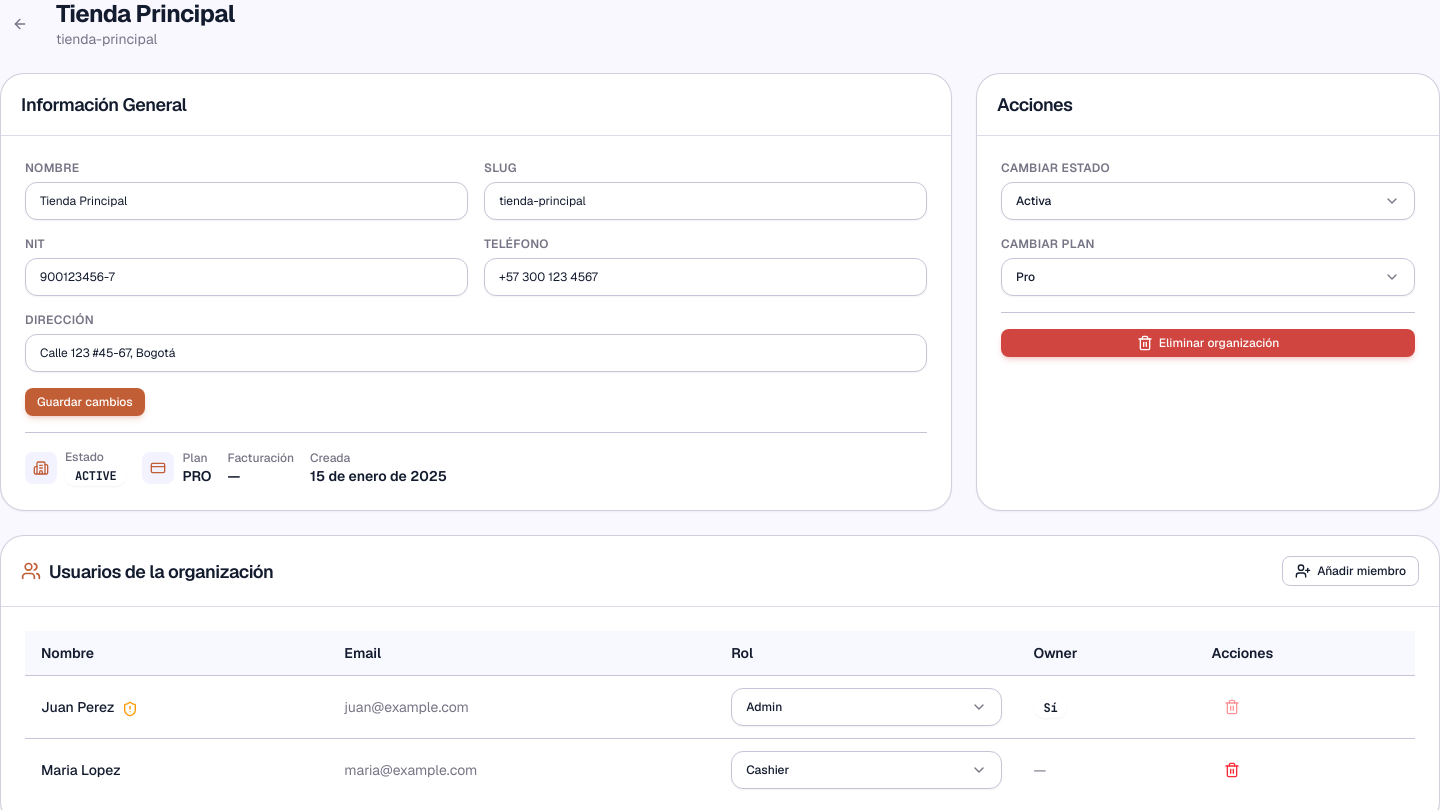
OrganizationDetailPage › add member modal › opens add member modal when button is clicked
Click the button "Añadir miembro".
click(1351, 571)  # box [1282, 556, 1419, 586]
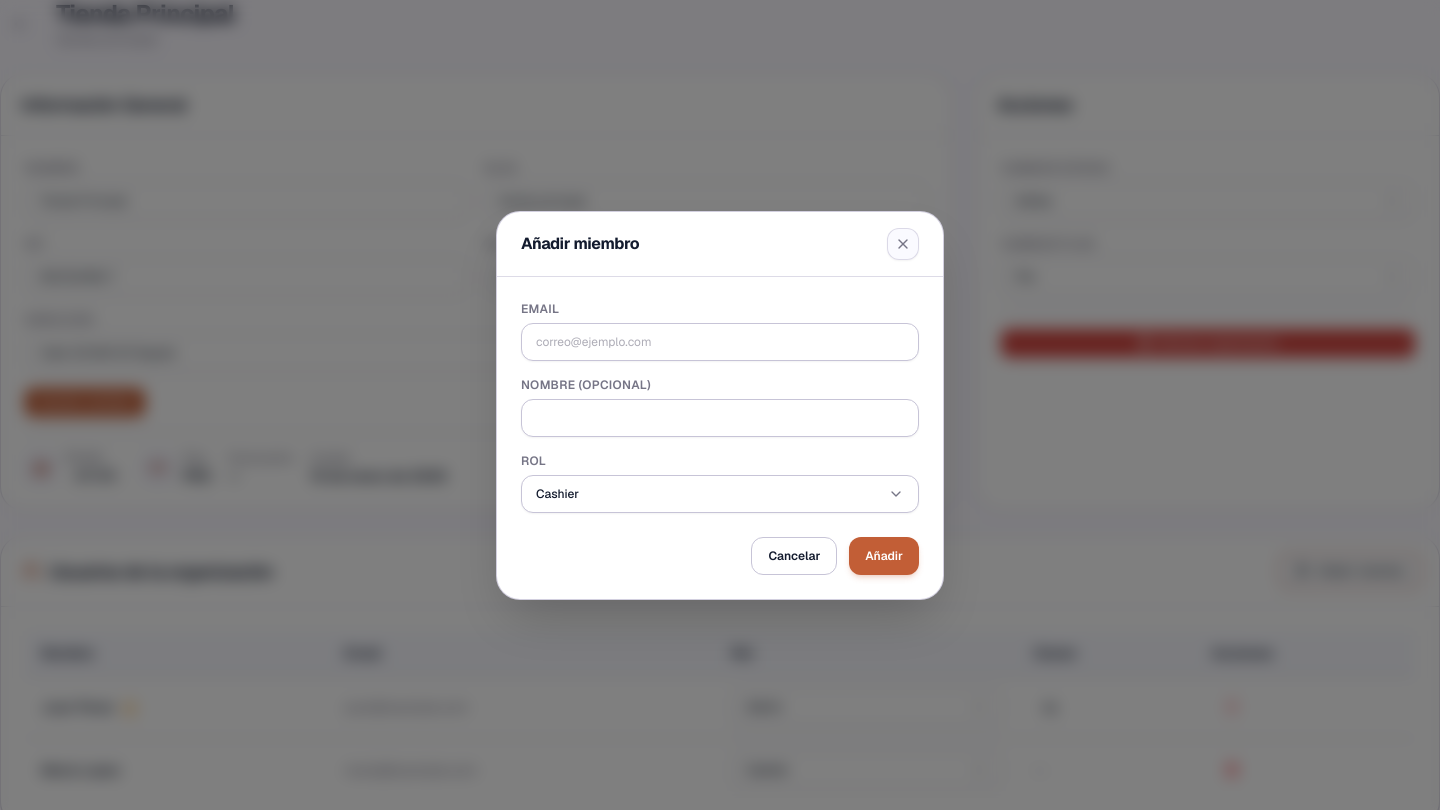
Check: the field with placeholder "correo@ejemplo.com" is shown, box [521, 322, 919, 360]
